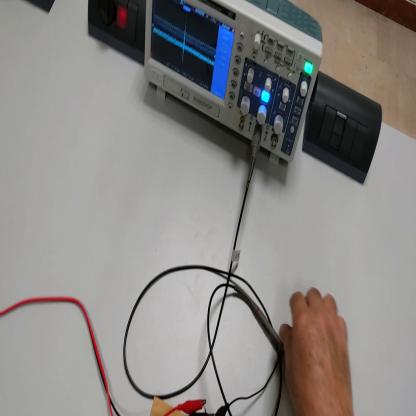hand: (280, 286, 353, 414)
oscilloscope: (145, 1, 327, 179)
oscilloscope probe tip: (234, 283, 281, 348)
socket: (87, 1, 146, 68), (28, 1, 56, 17)
working area: (152, 392, 190, 416)
